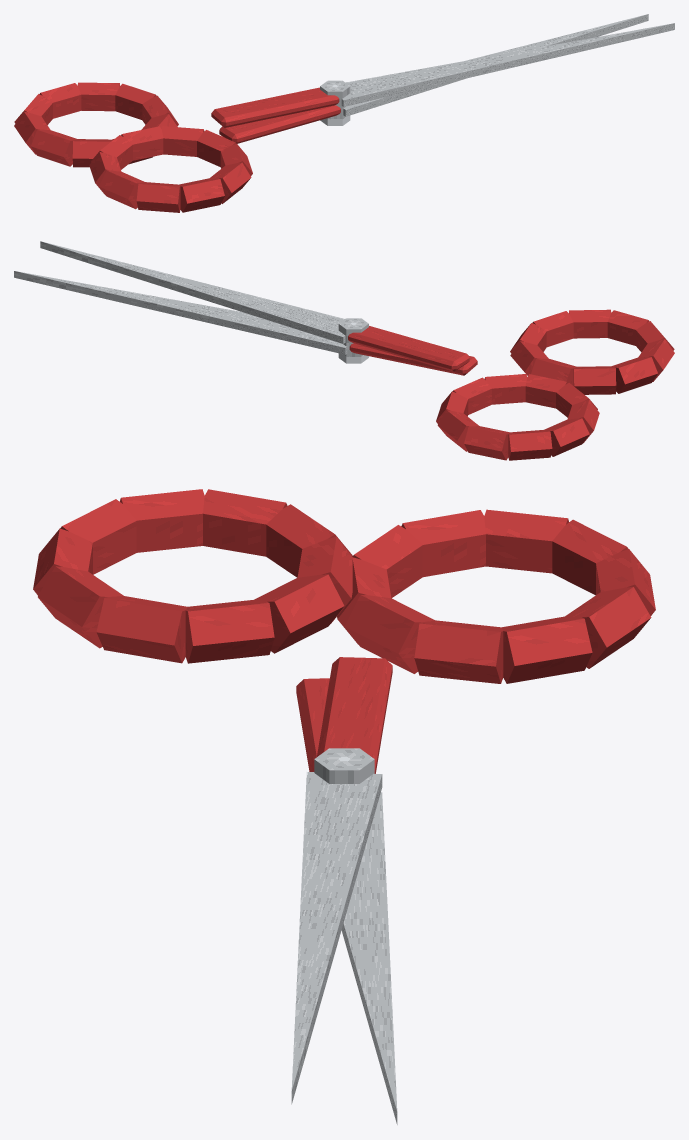
The model's file is scissors.glb.
The picture shows the model from 3 angles, top to bottom: view 1: azimuth 30°, elevation 25°; view 2: azimuth 150°, elevation 25°; view 3: azimuth 270°, elevation 25°; orthographic projection. The views are drawn at different scales.
Parts seen in each view (by area): view 1: block_blade1, block_shank1, block_blade0, block_shank0, block_loop13, block_loop12, block_loop04, block_loop14, block_loop08, block_loop18, block_loop17, block_loop07 (+12 smaller); view 2: block_blade1, block_blade0, block_shank1, block_loop06, block_loop07, block_loop16, block_loop15, block_loop05, block_loop11, block_loop01, block_loop02, block_loop12 (+13 smaller); view 3: block_blade1, block_blade0, block_shank1, block_loop00, block_loop19, block_loop09, block_loop10, block_loop05, block_loop14, block_loop18, block_loop01, block_loop04 (+13 smaller).
Part boxes in pixels (bbox=[...]): block_blade1: bbox=[341, 23, 674, 106]; block_shank1: bbox=[211, 87, 339, 127]; block_blade0: bbox=[343, 14, 648, 116]; block_shank0: bbox=[219, 105, 340, 143]; block_loop13: bbox=[136, 182, 180, 212]; block_loop12: bbox=[179, 178, 224, 212]; block_loop04: bbox=[31, 129, 76, 166]; block_loop14: bbox=[99, 170, 144, 209]; block_loop08: bbox=[77, 82, 119, 111]; block_loop18: bbox=[161, 126, 204, 156]; block_loop17: bbox=[121, 126, 163, 160]; block_loop07: bbox=[39, 83, 81, 118]; block_blade1: bbox=[40, 241, 345, 343]; block_blade0: bbox=[14, 271, 347, 354]; block_shank1: bbox=[348, 326, 469, 371]; block_loop06: bbox=[508, 430, 552, 460]; block_loop07: bbox=[464, 426, 509, 460]; block_loop16: bbox=[573, 366, 616, 394]; block_loop15: bbox=[612, 357, 657, 393]; block_loop05: bbox=[544, 418, 589, 456]; block_loop11: bbox=[569, 309, 611, 338]; block_loop01: bbox=[484, 374, 527, 404]; block_loop02: bbox=[525, 374, 567, 408]; block_loop12: bbox=[607, 310, 649, 345]; block_blade1: bbox=[291, 772, 382, 1104]; block_blade0: bbox=[341, 792, 397, 1124]; block_shank1: bbox=[317, 657, 392, 773]; block_loop00: bbox=[414, 620, 503, 683]; block_loop19: bbox=[185, 600, 274, 663]; block_loop09: bbox=[501, 616, 592, 683]; block_loop10: bbox=[96, 596, 187, 663]; block_loop05: bbox=[484, 509, 568, 573]; block_loop14: bbox=[120, 489, 204, 552]; block_loop18: bbox=[254, 574, 344, 653]; block_loop01: bbox=[344, 595, 434, 673]; block_loop04: bbox=[401, 510, 485, 577].
Size of the model in its own units: 0.1831 by 0.0118 by 0.0824.
2 materials, 2 textured.
